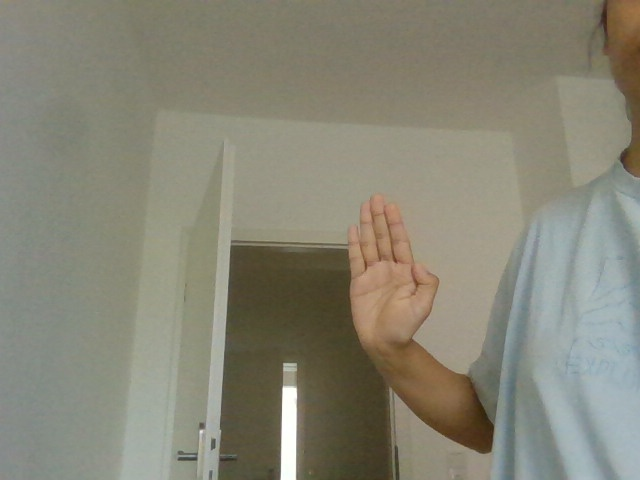open_hand: (332, 191, 444, 361)
